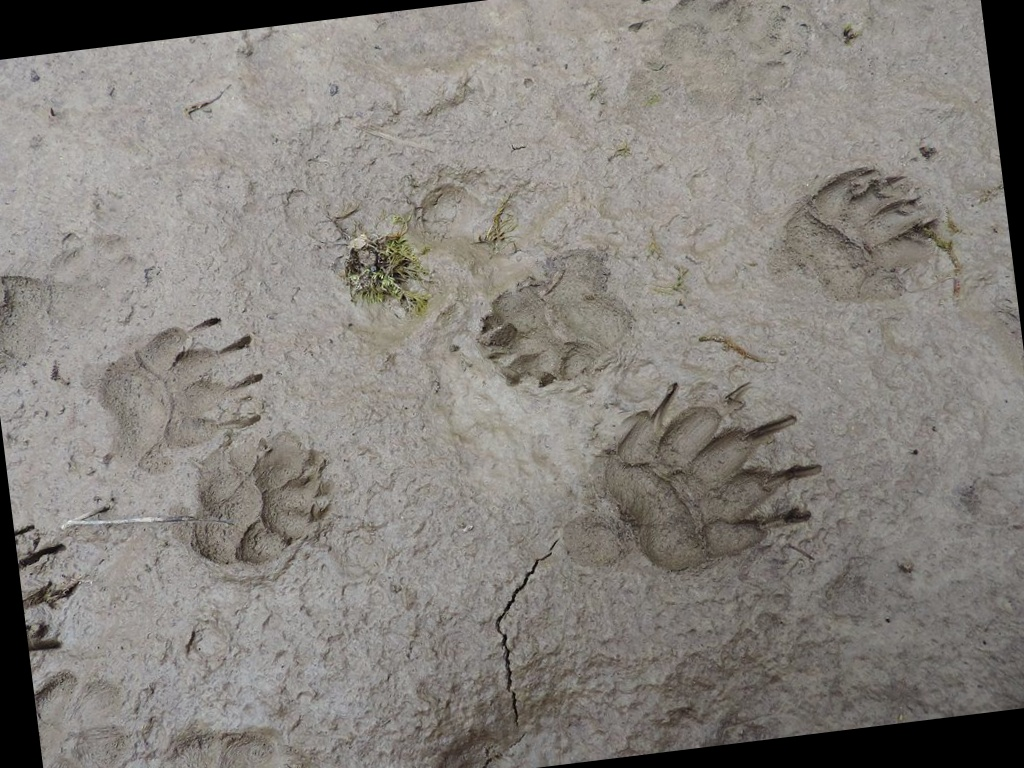beaver: (526, 360, 859, 631), (729, 147, 991, 339), (420, 235, 671, 433), (141, 418, 374, 623), (63, 312, 285, 509)
